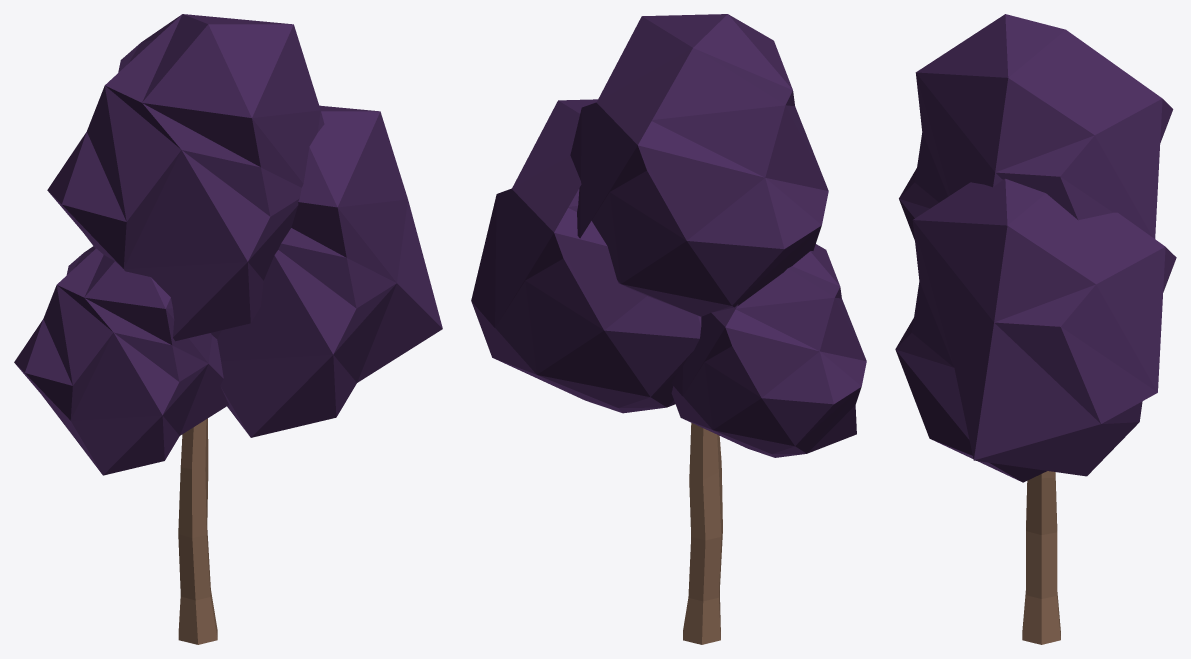
The model's file is LowPolyTree3.fbx.
3 renders of one model, left to right at view 1: azimuth 30°, elevation 25°; view 2: azimuth 150°, elevation 25°; view 3: azimuth 270°, elevation 25°, orthographic. The views are drawn at different scales.
Parts seen in each view (by area): view 1: Leaves3, Leaves5, Leaves4, Trunk3; view 2: Leaves3, Leaves5, Leaves4, Trunk3; view 3: Leaves5, Leaves3, Trunk3.
Part boxes in pixels (x1,y1,x2,y2): Leaves3: (47,14,324,341); Leaves5: (211,105,442,437); Leaves4: (14,246,228,475); Trunk3: (178,418,217,644); Leaves3: (570,14,828,316); Leaves5: (471,99,701,413); Leaves4: (671,244,866,457); Trunk3: (683,423,722,644); Leaves5: (895,178,1176,482); Leaves3: (899,14,1173,240); Trunk3: (1022,471,1060,644).
Size of the model in its own units: 1316 by 2080 by 859.
